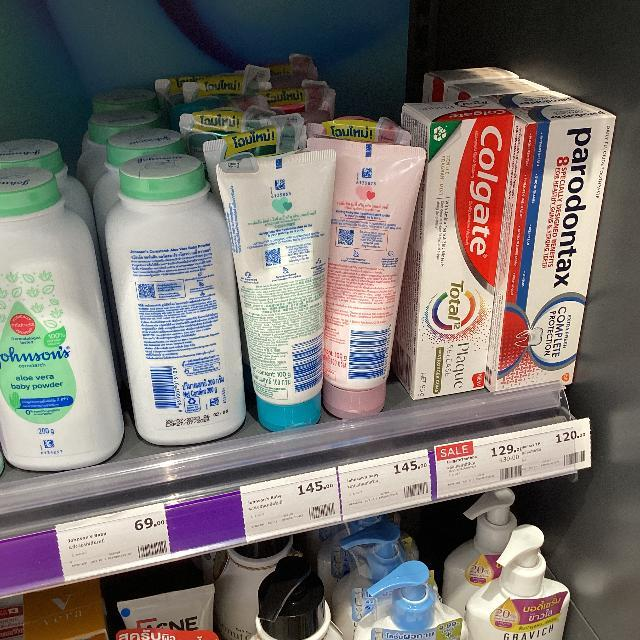Squeeze Tube: (214, 118, 415, 460), (311, 140, 426, 439), (234, 161, 343, 421)
